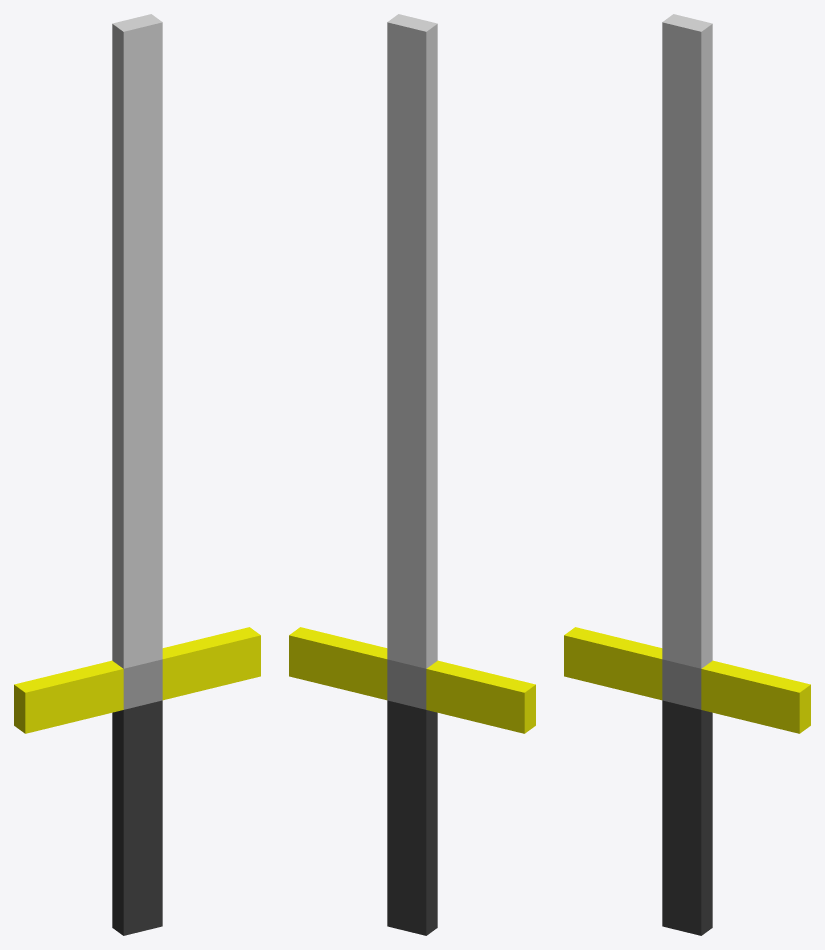
Rendered from sword-simple-1.obj.
3 views of the same model, side by side, from view 1: azimuth 30°, elevation 25°; view 2: azimuth 150°, elevation 25°; view 3: azimuth 330°, elevation 25° (orthographic).
Size of the model in its own units: 12 by 44 by 1.
1 material, 1 textured.
